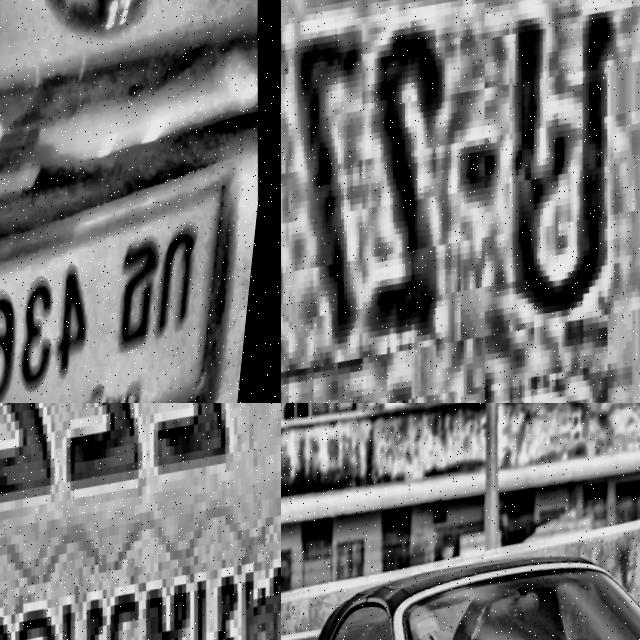license-plate: (281, 0, 640, 403), (0, 403, 281, 640), (0, 196, 229, 403)
